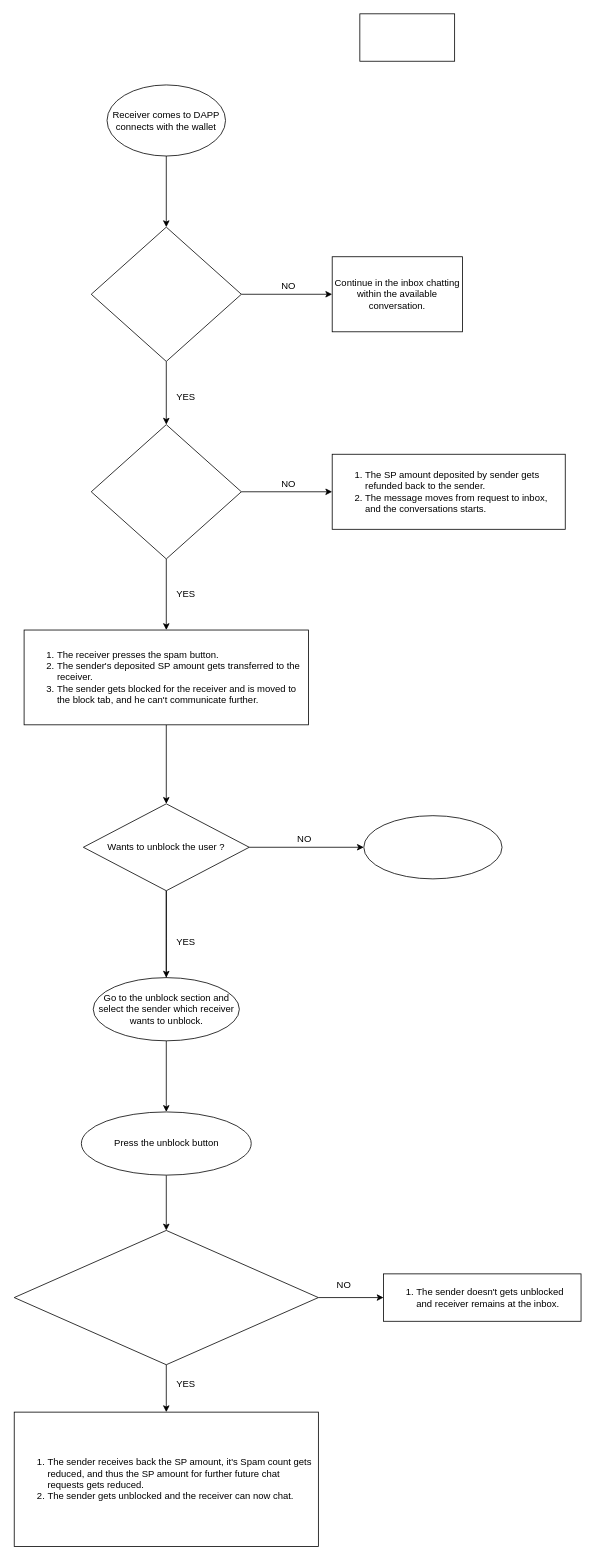
This 595x1560 diagram has some shape labels left out. Each missing label, with the centre of its shape:
Is the received request from sender a spam ?: the point at 165,491
Receiver is prompted to refund the SP amount of the sender. Refunded ?: the point at 165,1297
Receiver received any request from sender ?: the point at 165,293
Receiver returns to the main DAPP console and can chat with existing users.: the point at 432,847
Receiver's Message Flow: the point at 407,37
